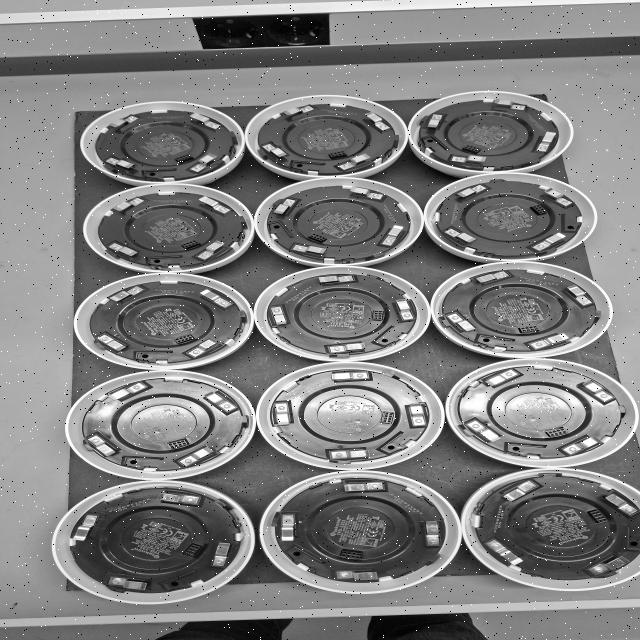yaysiz: (482, 537, 527, 568), (587, 551, 633, 577), (493, 479, 542, 503), (599, 490, 638, 518), (562, 432, 604, 456), (465, 420, 505, 445), (104, 382, 148, 404), (178, 444, 219, 467), (199, 389, 238, 413), (576, 379, 614, 403), (72, 513, 102, 543), (151, 489, 201, 507), (87, 435, 122, 460), (481, 368, 522, 389), (563, 283, 596, 308), (192, 194, 233, 214), (107, 575, 155, 592), (196, 289, 234, 309), (528, 332, 570, 350), (187, 337, 223, 358), (445, 313, 479, 335), (332, 569, 388, 582), (530, 232, 566, 252), (278, 513, 301, 544), (189, 152, 221, 174), (196, 240, 228, 262), (106, 286, 145, 304), (95, 334, 130, 354), (403, 399, 428, 427), (338, 480, 387, 494), (186, 111, 222, 130), (361, 110, 392, 132), (210, 540, 236, 566), (323, 370, 371, 384), (338, 153, 375, 171), (444, 228, 479, 247), (471, 270, 512, 286), (381, 223, 409, 246), (323, 341, 369, 355), (542, 187, 574, 207), (272, 401, 294, 430), (453, 184, 490, 201), (344, 186, 388, 200), (268, 304, 292, 329), (111, 197, 148, 213), (423, 516, 441, 548), (270, 198, 298, 218), (276, 105, 315, 119), (292, 244, 331, 258), (486, 98, 527, 111), (536, 129, 558, 153), (107, 242, 140, 258), (330, 449, 378, 460), (310, 274, 357, 285), (262, 143, 290, 161), (107, 114, 138, 130), (394, 297, 413, 323), (104, 157, 137, 171), (452, 156, 490, 167), (426, 113, 444, 133)
